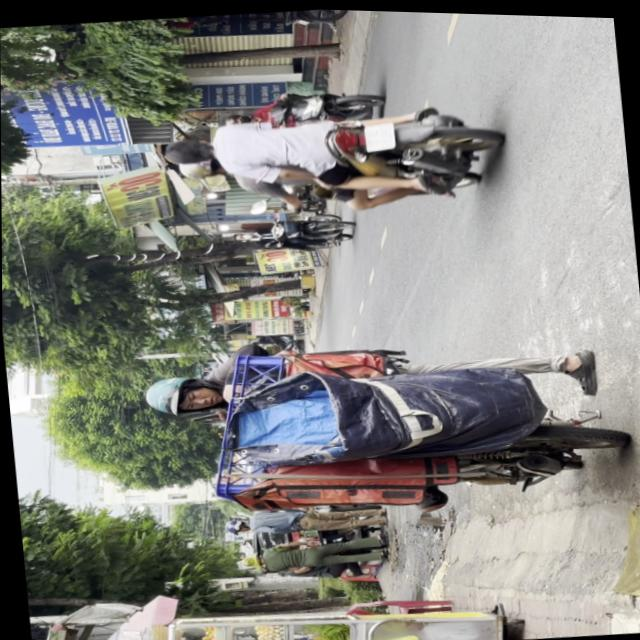helmet: (175, 155, 223, 178)
licenseplate: (155, 87, 504, 226)
motorcyclist: (160, 130, 215, 165)
nohelmet: (363, 117, 395, 149)
